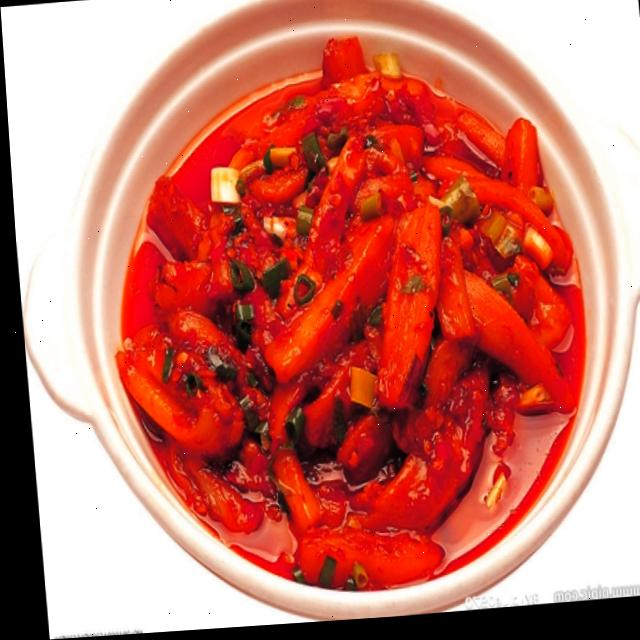鸡蛋料理: (4, 0, 640, 629)
